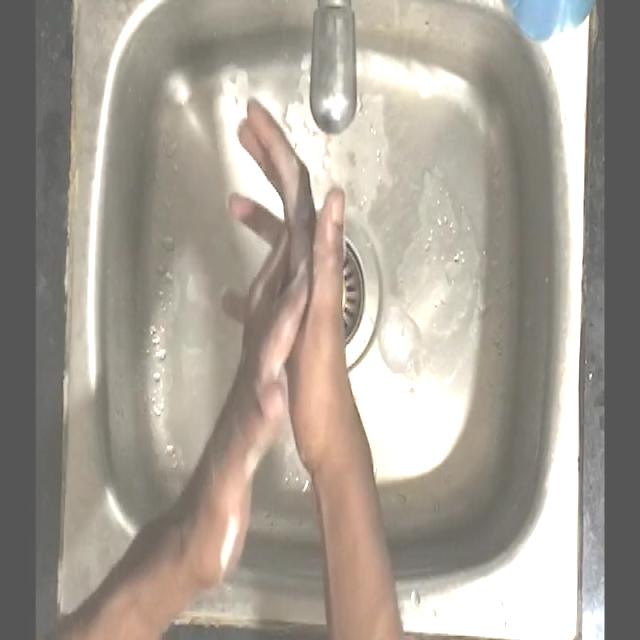step_3: (218, 88, 358, 440)
